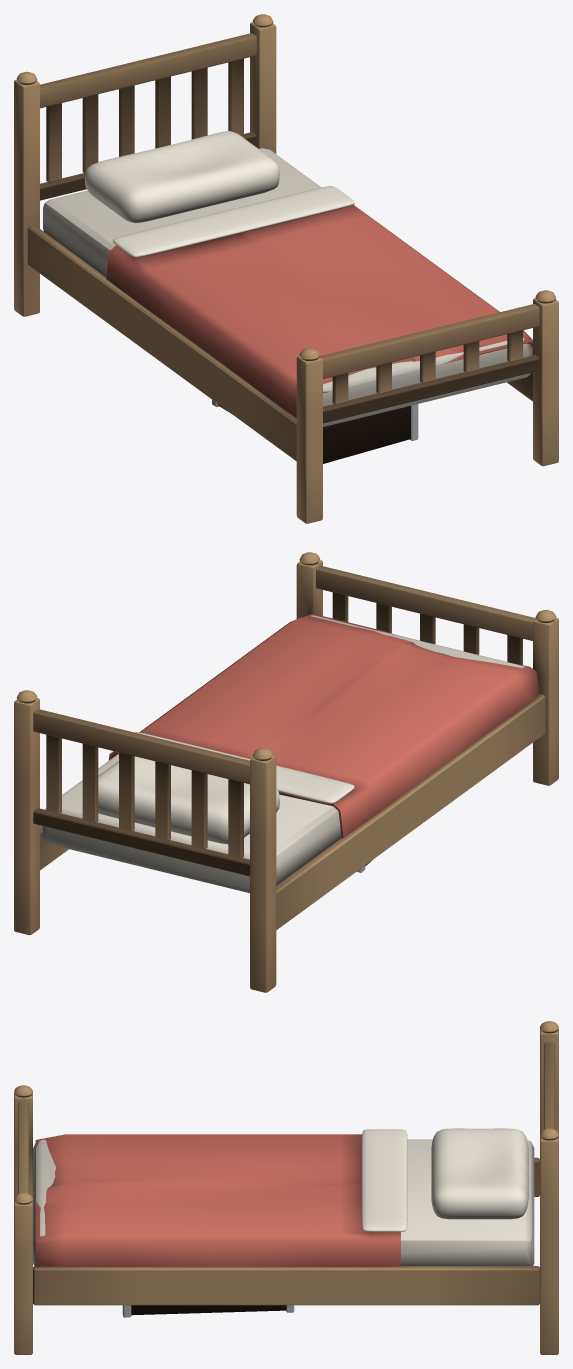
Rendered from bed.glb.
3 renders of one model, top to bottom at view 1: azimuth 30°, elevation 25°; view 2: azimuth 150°, elevation 25°; view 3: azimuth 270°, elevation 25°, orthographic. The views are drawn at different scales.
Parts seen in each view (by area): view 1: PART; view 2: PART; view 3: PART.
Boxes of the visible parts, x1,y1,x2,y2 form: PART: (14,14,558,523); PART: (14,552,558,992); PART: (14,1021,558,1354).
Size of the model in its own units: 1 by 0.9 by 2.
